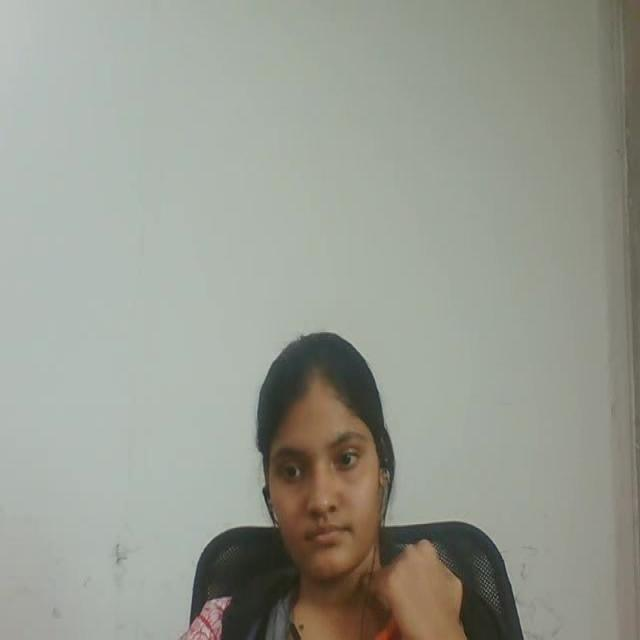Engaged: (224, 318, 436, 606)
